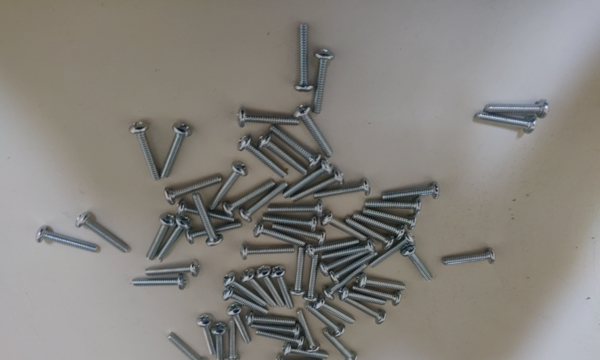longscrew: (78, 209, 130, 254), (203, 163, 246, 211), (260, 132, 308, 175), (225, 175, 274, 217), (299, 107, 339, 158), (240, 184, 287, 227), (238, 136, 286, 178), (274, 124, 322, 166), (282, 162, 332, 201), (130, 119, 159, 185), (166, 173, 223, 206), (39, 225, 99, 255), (156, 123, 187, 180), (291, 172, 345, 204), (193, 193, 223, 248), (319, 250, 375, 277), (346, 218, 396, 248), (355, 212, 405, 242), (313, 43, 334, 113), (238, 104, 299, 128), (143, 215, 175, 260), (157, 219, 189, 264), (489, 95, 550, 118), (327, 267, 368, 301), (293, 23, 313, 92), (331, 252, 377, 282), (371, 234, 417, 264), (476, 110, 537, 132), (225, 274, 268, 305), (384, 181, 439, 205), (185, 222, 242, 245), (243, 270, 279, 306), (176, 203, 238, 223), (254, 226, 312, 247), (258, 266, 286, 308), (324, 213, 366, 241), (223, 289, 269, 314), (403, 245, 434, 282), (271, 225, 329, 244), (316, 181, 371, 201), (291, 245, 312, 297), (165, 334, 207, 360), (342, 297, 384, 323), (367, 199, 424, 218), (307, 308, 344, 337), (303, 252, 323, 304), (358, 274, 410, 294), (322, 332, 359, 360), (352, 286, 403, 306), (298, 309, 320, 355), (228, 305, 253, 345), (322, 243, 377, 261), (306, 237, 360, 255), (367, 211, 417, 230), (239, 243, 296, 259), (438, 250, 495, 266), (275, 264, 295, 309), (132, 274, 188, 290), (146, 260, 202, 276), (318, 302, 358, 324), (342, 291, 390, 308), (269, 203, 323, 217), (263, 214, 317, 228), (282, 344, 332, 359), (255, 334, 305, 349), (252, 321, 302, 336), (246, 312, 296, 327), (200, 311, 215, 356), (224, 320, 239, 360), (211, 325, 227, 360), (276, 355, 326, 360)
